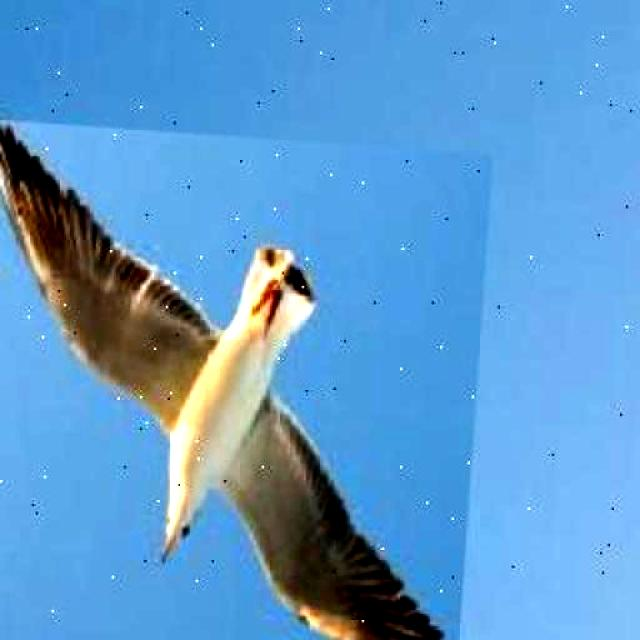airplane: (0, 118, 492, 640)
